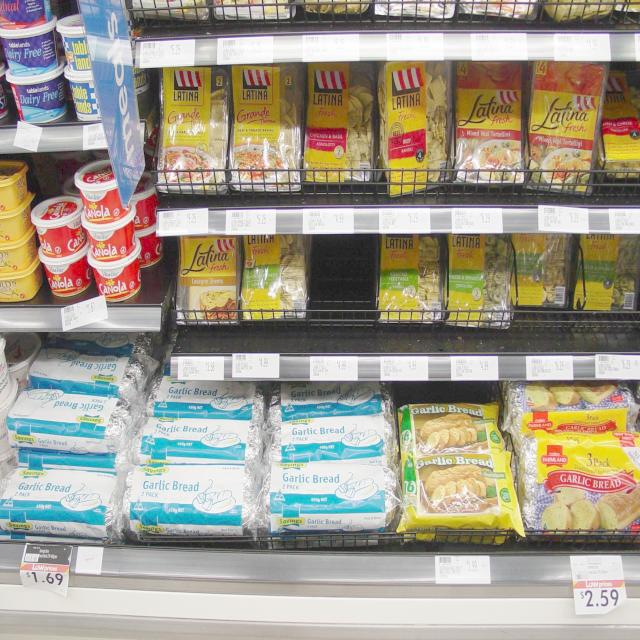empty_space: (316, 250, 364, 318)
